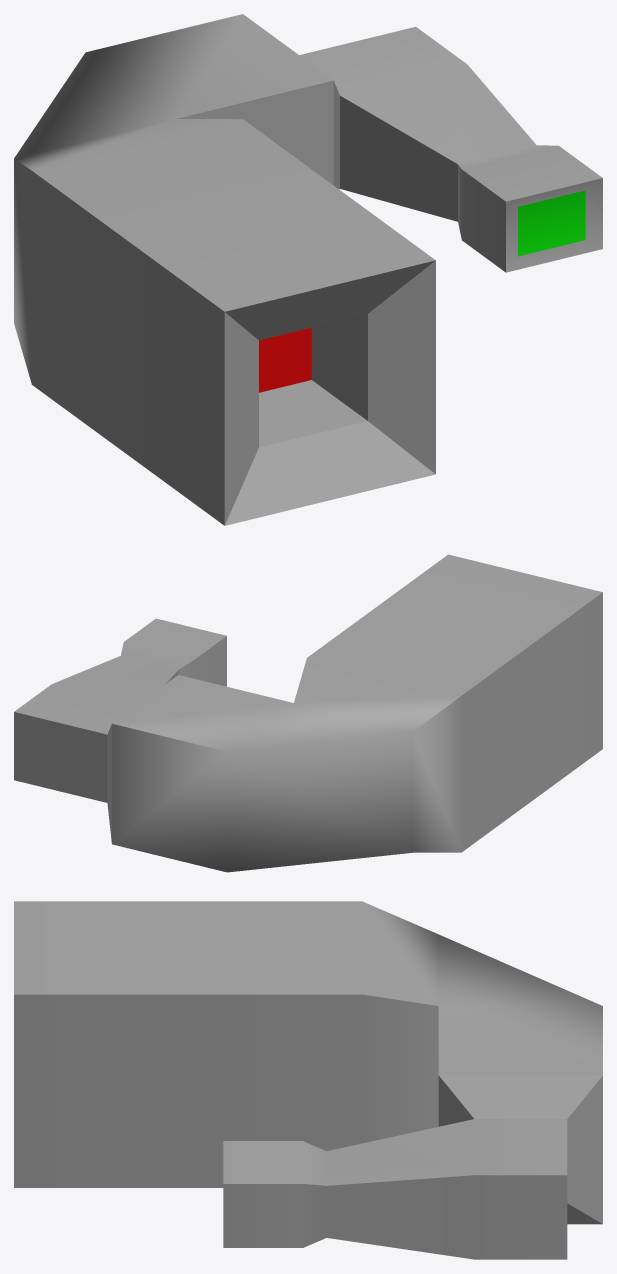
Rendered from GrabboTurretTop.fbx.
3 views of the same model, one above another, from view 1: azimuth 30°, elevation 25°; view 2: azimuth 150°, elevation 25°; view 3: azimuth 270°, elevation 25° (orthographic). The views are drawn at different scales.
Visible parts, largest first — view 1: pCube1; view 2: pCube1; view 3: pCube1.
Part boxes in pixels (x1,y1,x2,y2): pCube1: (14,14,602,525); pCube1: (14,554,602,872); pCube1: (14,901,602,1259).
Bounding box in the file's own units: 3.16 × 1.3 × 3.59.
